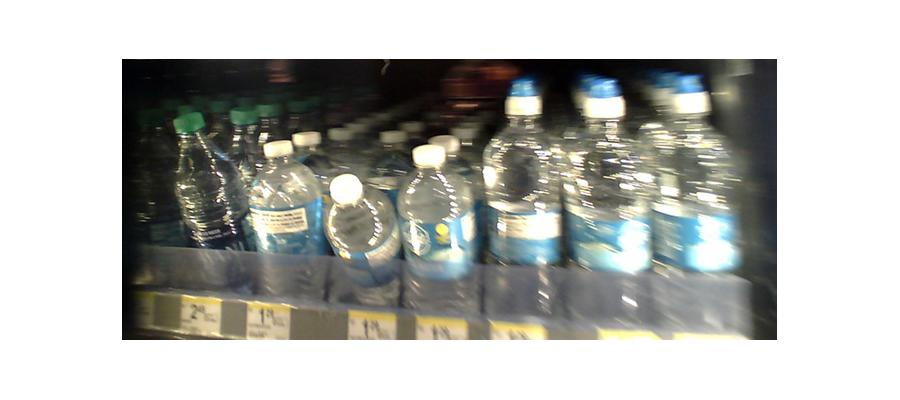bottle: (646, 73, 748, 324), (563, 86, 651, 329), (479, 82, 561, 324), (170, 109, 244, 290), (398, 142, 474, 318), (249, 135, 322, 301), (326, 171, 399, 306)
